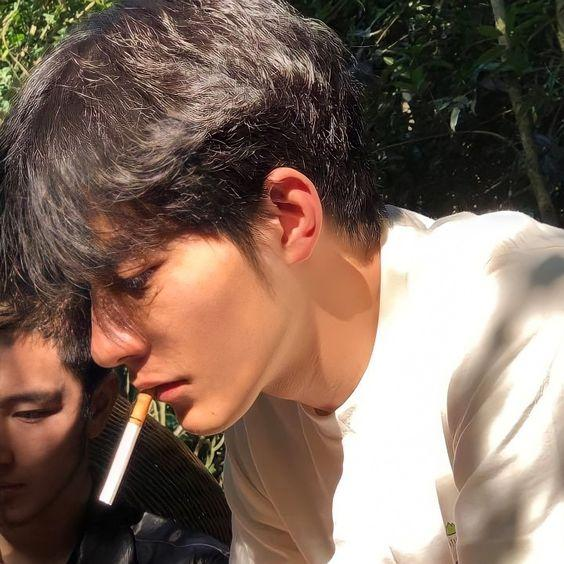cigarette: (98, 387, 156, 507)
